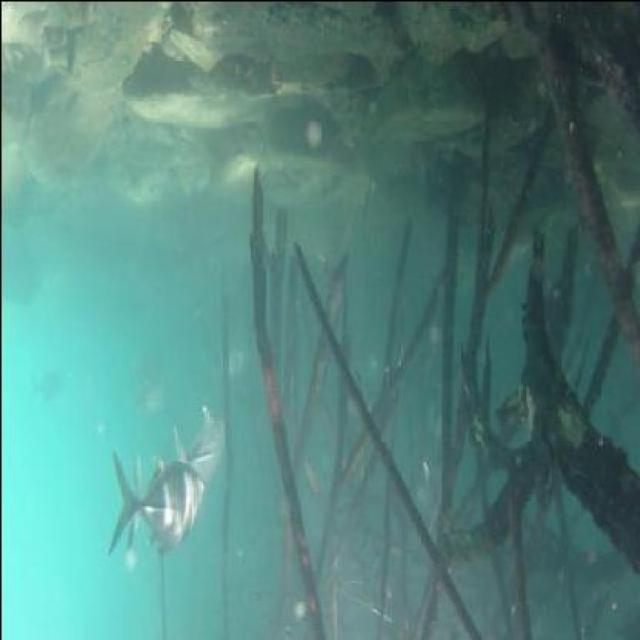Caranx_sexfasciatus_juvenile: (105, 438, 202, 570), (164, 397, 227, 500), (126, 378, 160, 427)
